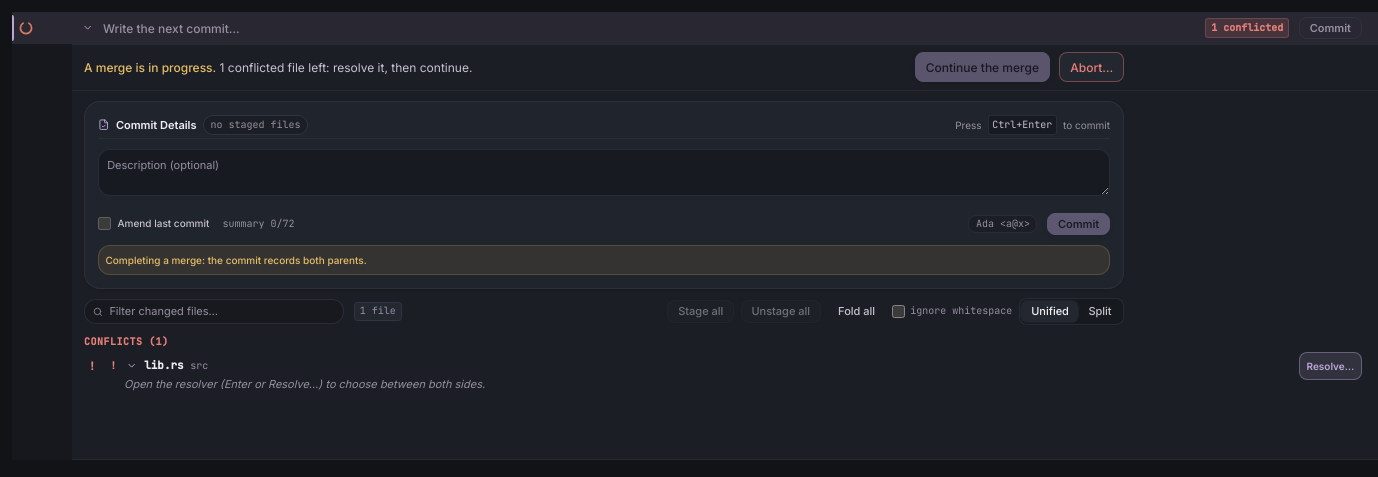
Scenario: conflict resolution › names ours and theirs, and keeps continuing disabled while conflicts remain
This screenshot has width=1378, height=477.
What coordinates should you click on to do the following:
click the button "Resolve…"
I would click on:
 (1330, 366)
Its box is x1=1299 y1=352 x2=1362 y2=380.
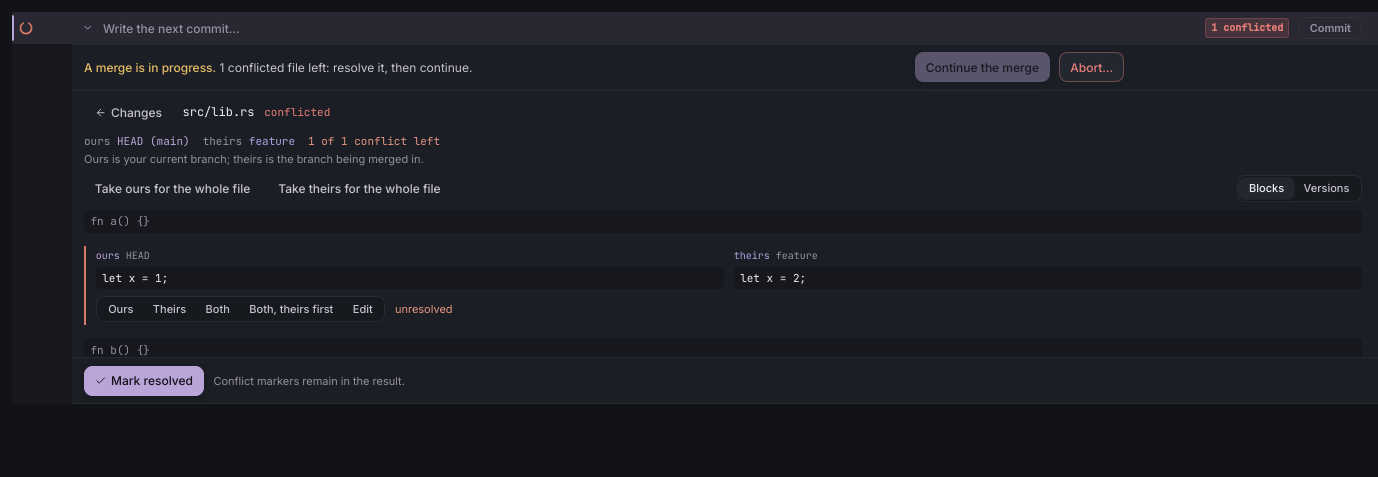
Now the text "HEAD (main)" is shown, box x1=117 y1=134 x2=190 y2=148
Now the text "feature" next to "1 of 1 conflict left" is shown, box x1=249 y1=134 x2=295 y2=148
Now the text "Ours is your current branch; theirs is the branch being merged in" is shown, box x1=84 y1=152 x2=424 y2=166
